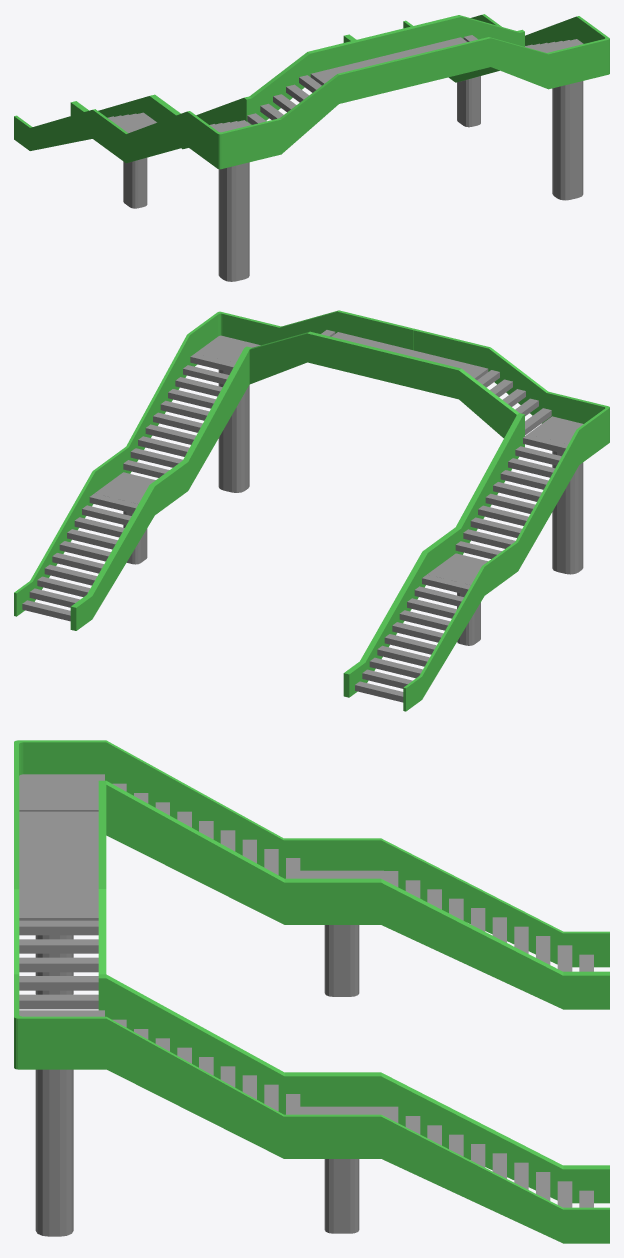
File: Station Stairs.fbx
3 renders of one model, top to bottom at view 1: azimuth 30°, elevation 25°; view 2: azimuth 150°, elevation 25°; view 3: azimuth 270°, elevation 25°, orthographic. The views are drawn at different scales.
Visible parts, largest first — view 1: Cube.008, Cube.004, Cube.007, Cube.002, Cube.006, Cube.005, Cube.001; view 2: Cube.004, Cube.008, Cube, Cube.001, Cube.007, Cube.002, Cube.005, Cube.006; view 3: Cube.008, Cube.004, Cube.007, Cube.006, Cube.002, Cube.003, Cube, Cube.001.
Boxes of the visible parts, left/top/right/bottom form: Cube.008: left=14, top=14, right=609, bottom=169; Cube.004: left=70, top=15, right=524, bottom=149; Cube.007: left=218, top=42, right=583, bottom=281; Cube.002: left=116, top=76, right=480, bottom=208; Cube.006: left=310, top=37, right=466, bottom=85; Cube.005: left=247, top=75, right=321, bottom=124; Cube.001: left=210, top=39, right=581, bottom=131; Cube.004: left=70, top=331, right=524, bottom=697; Cube.008: left=14, top=310, right=609, bottom=711; Cube: left=22, top=493, right=470, bottom=702; Cube.001: left=123, top=353, right=568, bottom=558; Cube.007: left=195, top=335, right=583, bottom=574; Cube.002: left=94, top=472, right=487, bottom=645; Cube.005: left=477, top=370, right=551, bottom=435; Cube.006: left=332, top=332, right=488, bottom=379; Cube.008: left=14, top=740, right=609, bottom=1243; Cube.004: left=98, top=780, right=609, bottom=1203; Cube.007: left=19, top=774, right=90, bottom=1236; Cube.006: left=19, top=811, right=98, bottom=920; Cube.002: left=300, top=870, right=383, bottom=1233; Cube.003: left=19, top=920, right=98, bottom=1009; Cube: left=384, top=871, right=593, bottom=1207; Cube.001: left=90, top=774, right=300, bottom=1114.
Size of the model in its own units: 1410 by 648 by 1277.
